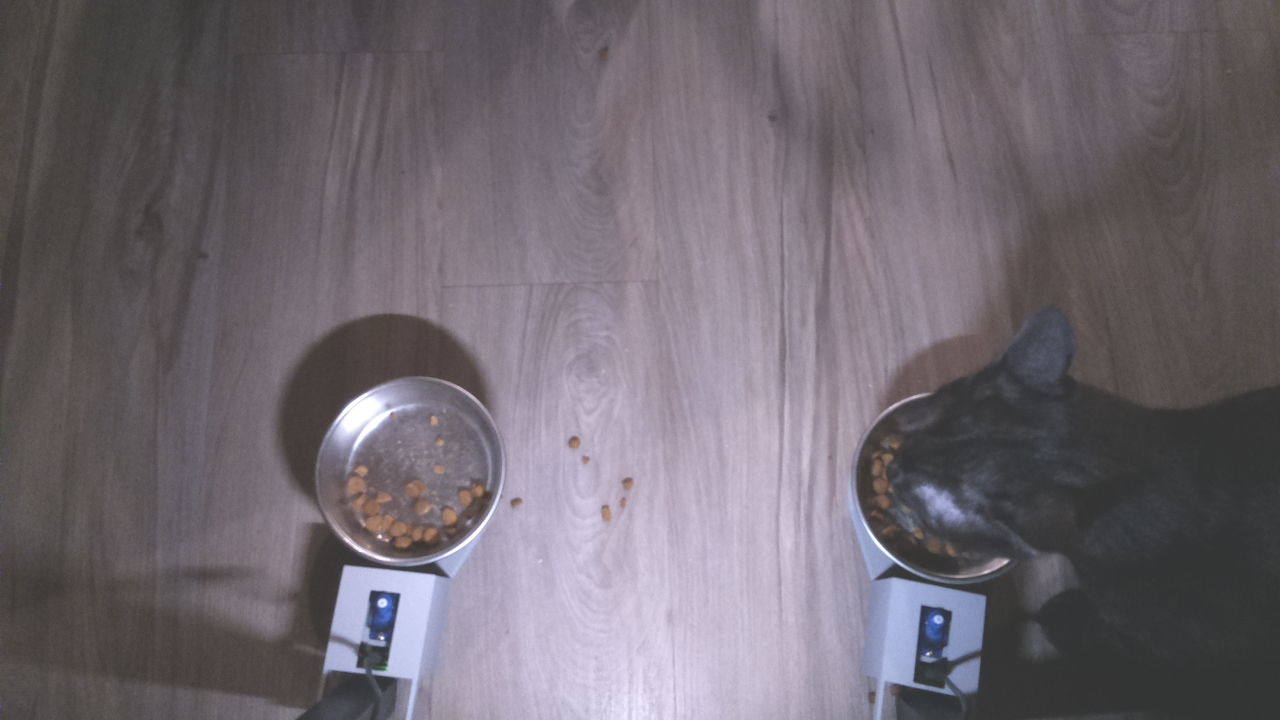open_bowl: (313, 373, 508, 570)
saki_eating: (849, 298, 1125, 590)
